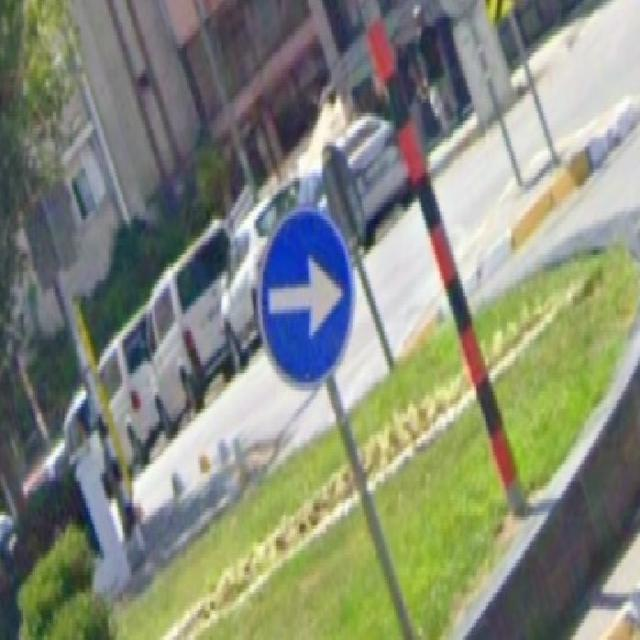Turn Right: (260, 206, 359, 383)
